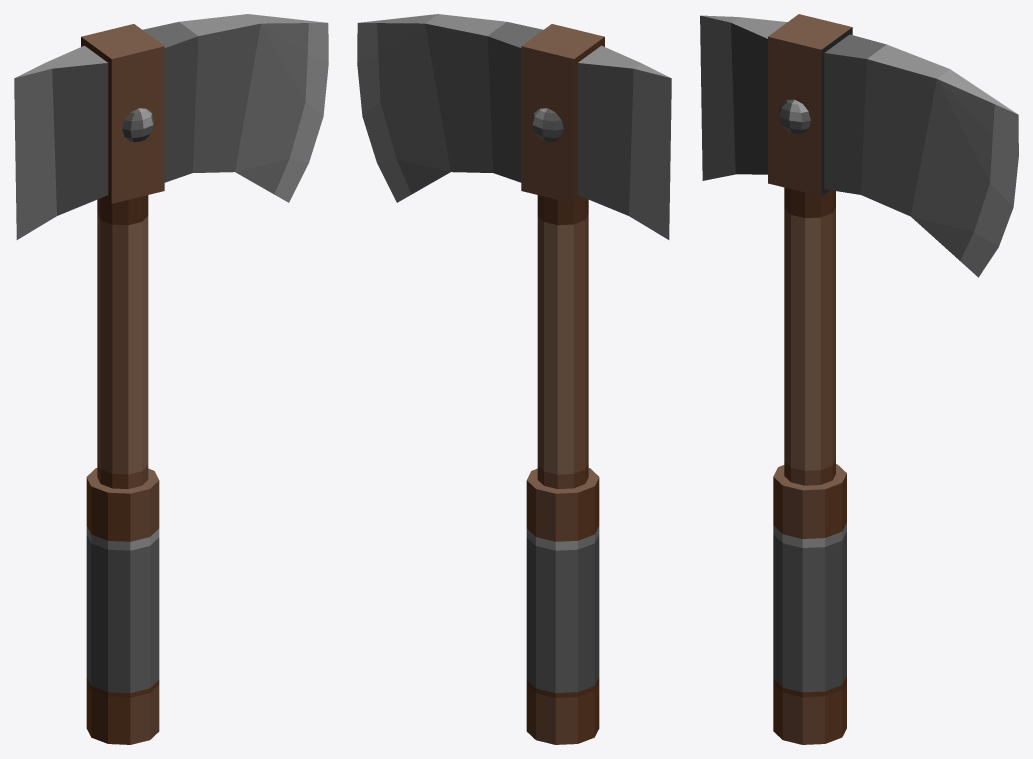
The model's file is Tool_Axe_Improvised.fbx.
The picture shows the model from 3 angles, left to right: view 1: azimuth 30°, elevation 25°; view 2: azimuth 150°, elevation 25°; view 3: azimuth 330°, elevation 25°; orthographic projection.
Parts seen in each view (by area): view 1: Tool_Axe_Improvised; view 2: Tool_Axe_Improvised; view 3: Tool_Axe_Improvised.
Boxes of the visible parts, left/top/right/bottom form: Tool_Axe_Improvised: left=14, top=14, right=328, bottom=744; Tool_Axe_Improvised: left=357, top=14, right=671, bottom=744; Tool_Axe_Improvised: left=700, top=14, right=1018, bottom=744.
Bounding box in the file's own units: 0.2501 × 0.5228 × 0.057.
